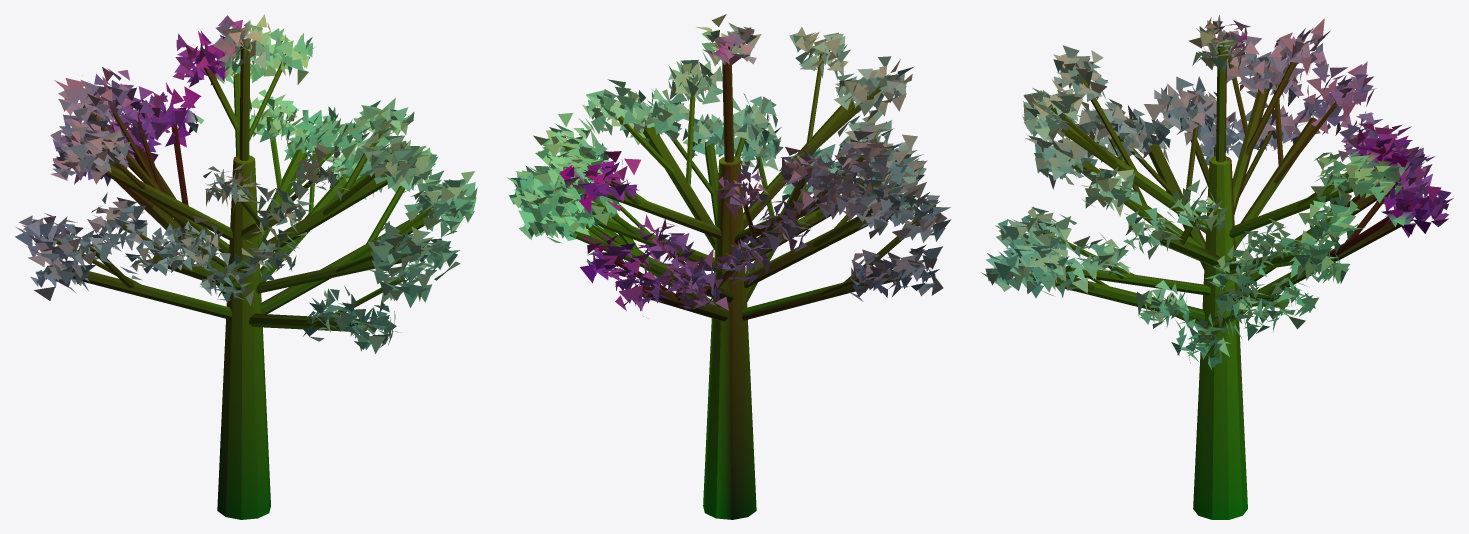
Rendered from ecological_broadleaf_old_01.glb.
3 renders of one model, left to right at view 1: azimuth 30°, elevation 25°; view 2: azimuth 150°, elevation 25°; view 3: azimuth 270°, elevation 25°, orthographic.
Parts seen in each view (by area): view 1: ecological_broadleaf_old_01; view 2: ecological_broadleaf_old_01; view 3: ecological_broadleaf_old_01.
Part boxes in pixels (x1,y1,x2,y2): ecological_broadleaf_old_01: (15,14,477,519); ecological_broadleaf_old_01: (507,14,951,519); ecological_broadleaf_old_01: (981,15,1453,519).
Size of the model in its own units: 29.4 by 31.49 by 27.9.
